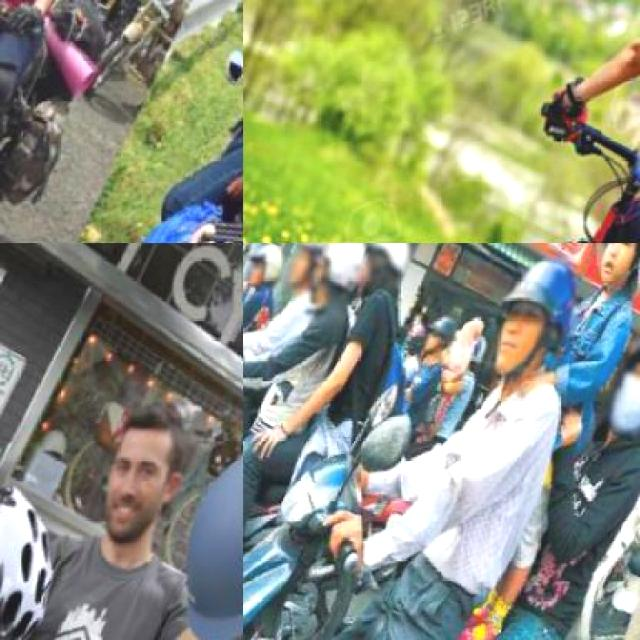With Helmet: (452, 243, 606, 408), (272, 243, 386, 339), (577, 301, 638, 457), (343, 243, 426, 299), (271, 243, 335, 299), (411, 309, 460, 365), (243, 243, 291, 295)
Without Helmet: (55, 379, 219, 564)
